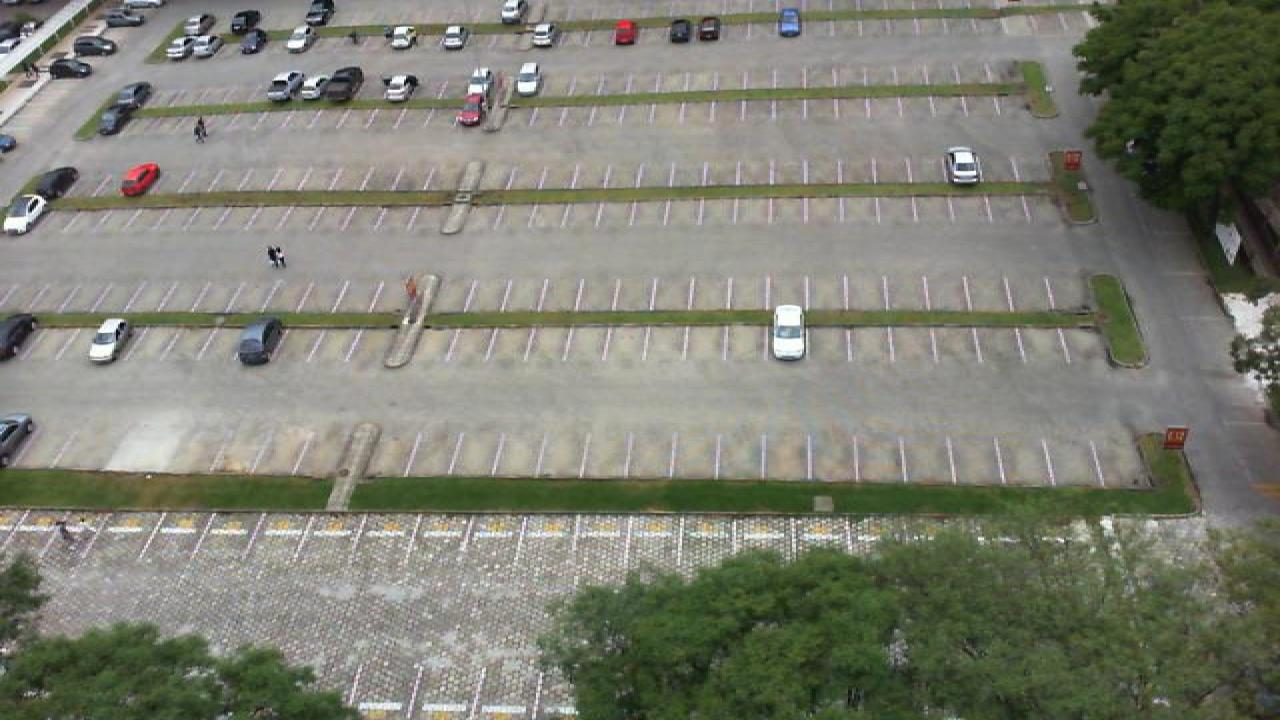Car: (234, 317, 284, 366), (770, 304, 808, 361), (2, 192, 50, 236), (88, 318, 130, 364), (30, 166, 80, 202), (0, 315, 36, 360), (0, 417, 34, 462), (946, 146, 984, 186), (326, 66, 364, 102), (120, 163, 160, 197), (96, 108, 140, 136), (116, 81, 154, 111), (454, 92, 486, 127), (512, 62, 544, 97), (268, 71, 302, 101), (46, 57, 92, 79), (72, 36, 118, 58), (464, 66, 496, 97), (380, 74, 414, 102), (284, 23, 316, 52), (174, 11, 208, 37), (90, 22, 134, 42), (108, 5, 152, 25), (300, 72, 330, 101), (302, 0, 334, 27), (190, 32, 222, 58), (230, 10, 260, 37), (528, 22, 556, 50), (778, 7, 804, 37), (238, 30, 268, 56), (164, 34, 194, 60), (388, 23, 416, 50), (500, 0, 528, 26), (442, 24, 470, 50), (612, 20, 638, 46), (668, 18, 694, 43), (696, 16, 720, 42), (126, 0, 168, 10)
